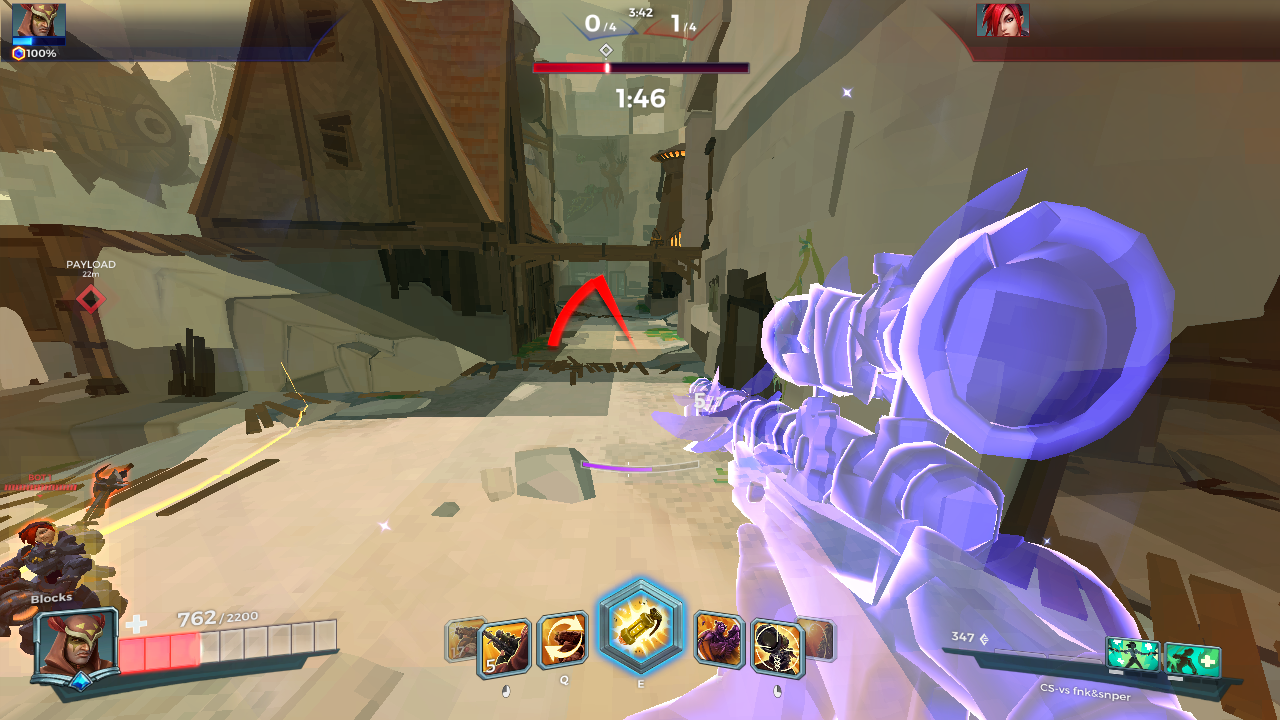model: (1, 446, 129, 591)
